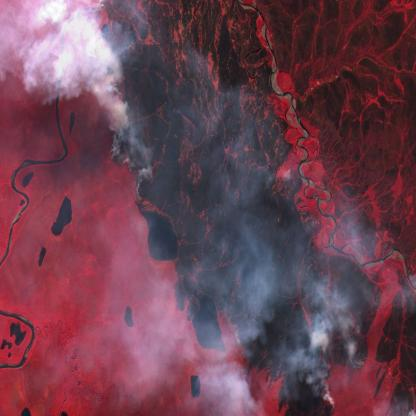fire: (87, 0, 148, 206), (305, 273, 372, 416), (228, 322, 250, 352)
